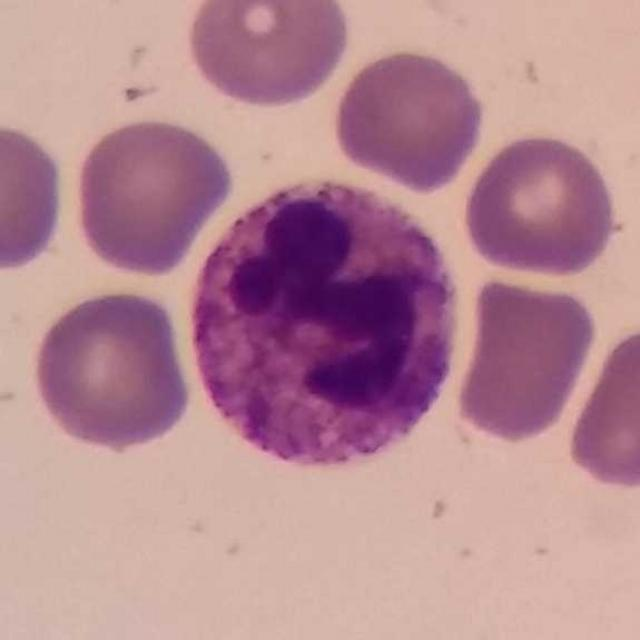Neutrophil: (175, 161, 472, 491)
RBC: (25, 284, 196, 454), (68, 112, 238, 278), (448, 272, 600, 446), (458, 127, 624, 280), (328, 43, 490, 194), (181, 0, 354, 111), (561, 315, 640, 494), (0, 117, 71, 277)
